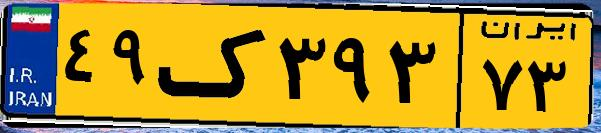3: (270, 28, 330, 110), (385, 28, 445, 110), (525, 38, 570, 115)
4: (57, 26, 110, 100)
7: (475, 38, 525, 113)
9: (330, 28, 385, 110), (110, 28, 158, 98)
ک: (158, 12, 270, 120)
